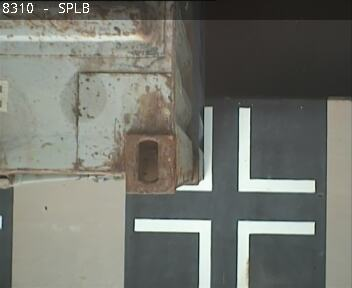groundmarker_1: (135, 217, 314, 288), (176, 106, 317, 192)
